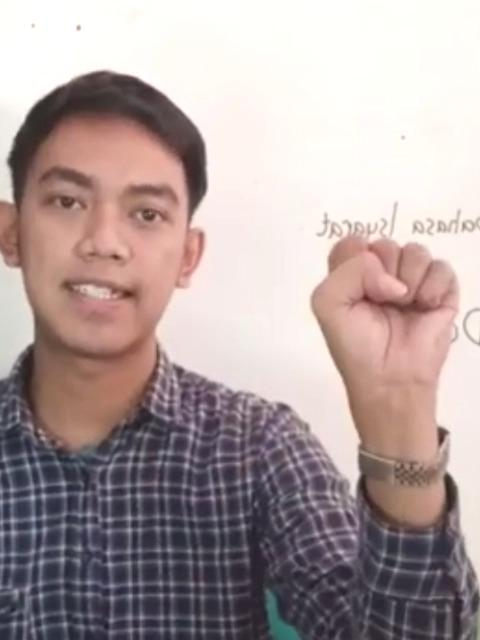S: (297, 228, 465, 392)
